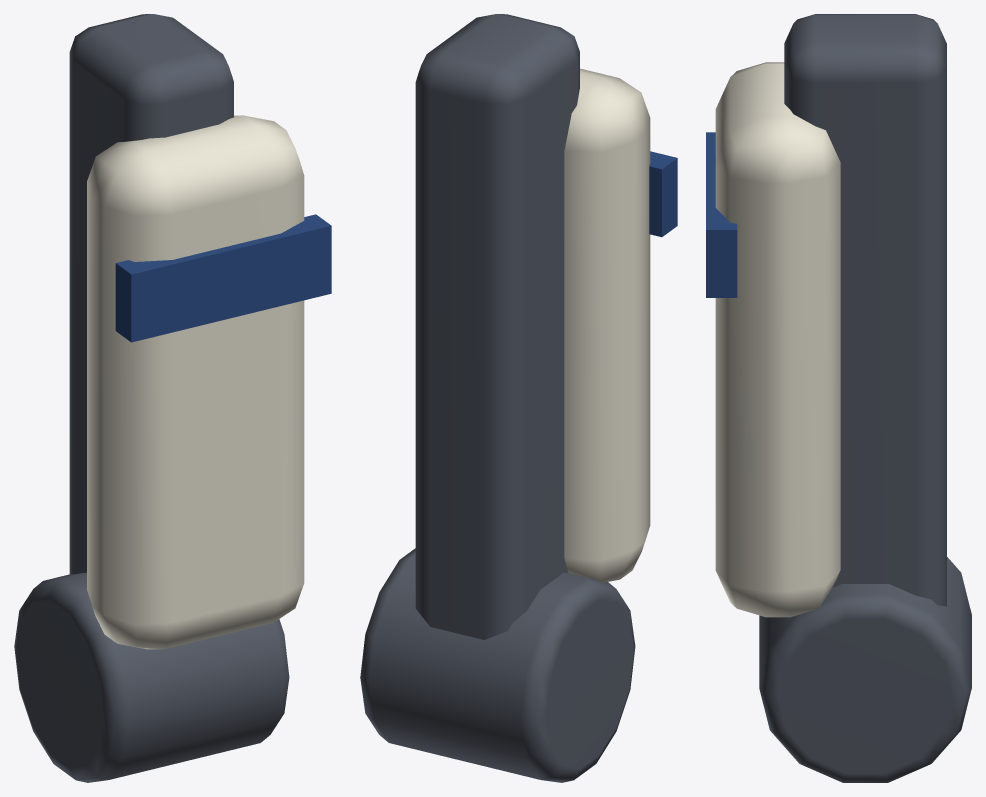
Rendered from walker_shin.glb.
3 renders of one model, left to right at view 1: azimuth 30°, elevation 25°; view 2: azimuth 150°, elevation 25°; view 3: azimuth 270°, elevation 25°, orthographic.
Parts seen in each view (by area): view 1: shin_guard, ankle, shin, shin_stripe; view 2: shin, shin_guard, ankle, shin_stripe; view 3: shin, shin_guard, ankle, shin_stripe.
Part boxes in pixels (bbox=[...]): shin_guard: bbox=[87, 115, 304, 649]; ankle: bbox=[14, 572, 289, 782]; shin: bbox=[69, 14, 233, 574]; shin_stripe: bbox=[115, 214, 331, 342]; shin: bbox=[415, 14, 579, 639]; shin_guard: bbox=[564, 68, 650, 582]; ankle: bbox=[360, 548, 635, 782]; shin_stripe: bbox=[649, 151, 677, 237]; shin: bbox=[784, 14, 946, 606]; shin_guard: bbox=[715, 62, 840, 617]; ankle: bbox=[759, 557, 971, 782]; shin_stripe: bbox=[706, 132, 737, 297].
Bounding box in the file's own units: 0.37 × 1.27 × 0.425.
